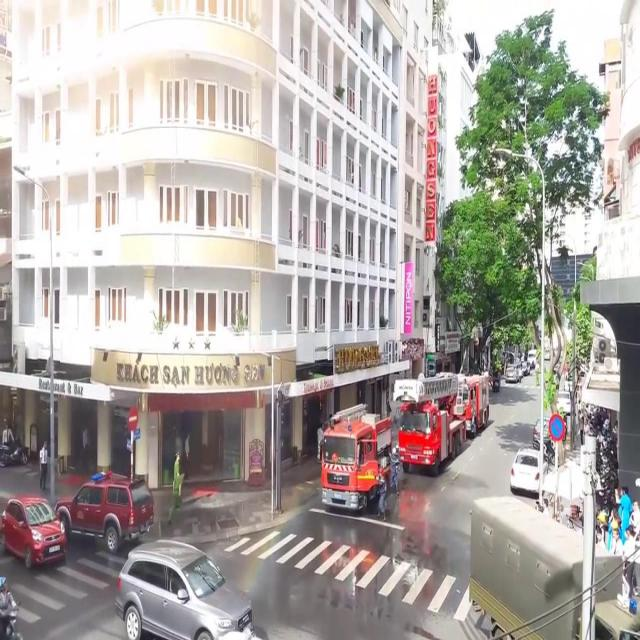car: (116, 541, 256, 640), (63, 472, 151, 551), (0, 496, 72, 566), (509, 446, 547, 494), (531, 416, 553, 454)
motorcycle: (0, 576, 23, 640)
truck: (469, 494, 640, 640), (320, 401, 393, 509), (393, 380, 463, 472), (451, 370, 489, 434)
